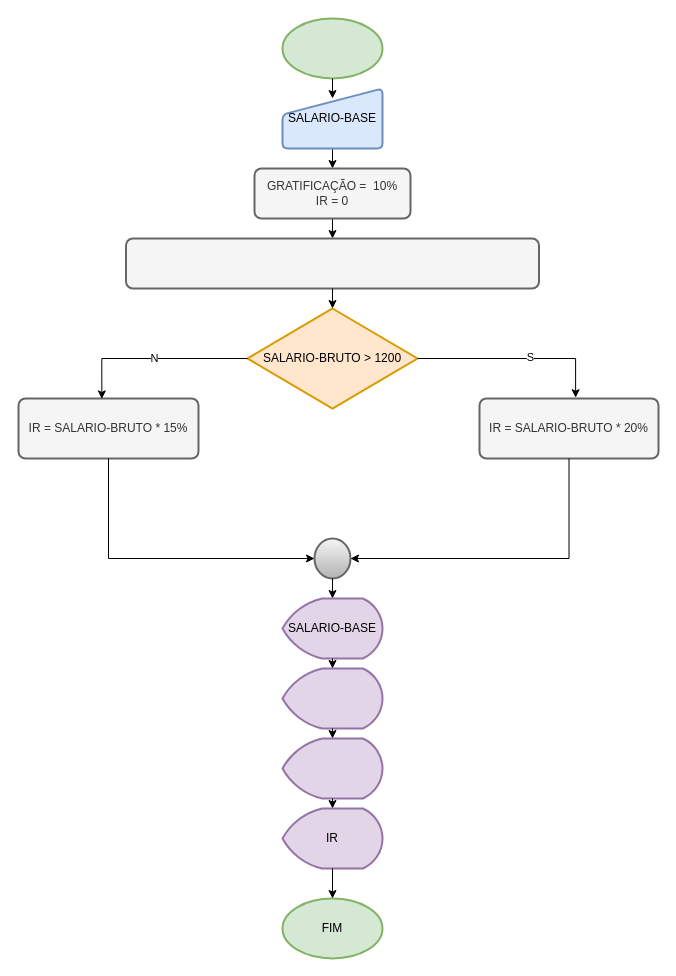
The diagram is 676 pixels wide and 976 high, and some of its shapes have lost their labels. Each missing label, with the centre of its shape:
"GRATIFICAÇÃO" belongs at pixel 332 698.
"INICIO" belongs at pixel 332 48.
"SALARIO-BRUTO" belongs at pixel 332 768.
"SALARIO-BRUTO = SALARIO-BASE + (SALARIO-BASE * 10%)" belongs at pixel 332 263.
